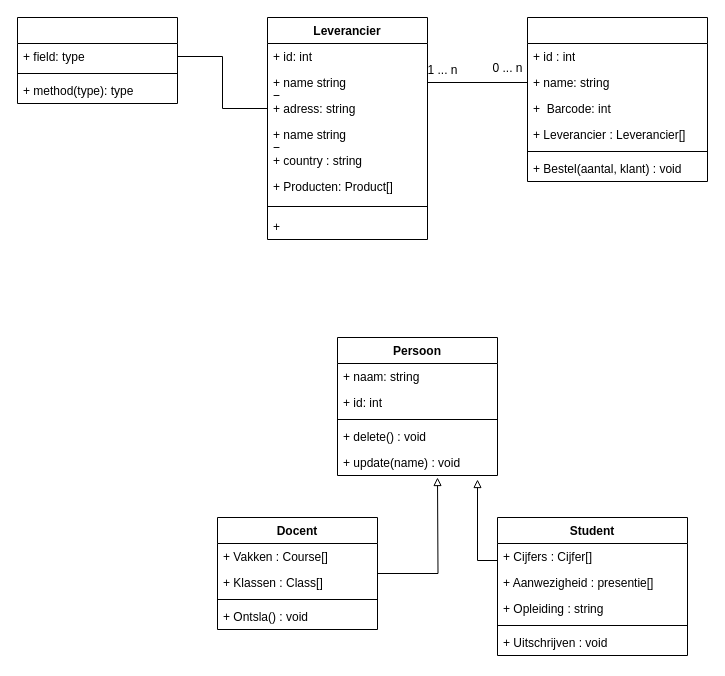
Some shapes in this 725 by 676 pixel diagram are drawn without their labels. The box of each missing label's shape, as (x1, y1, x2, y2) in pixels:
Classname: (16, 16, 178, 104)
Product: (526, 16, 708, 182)
